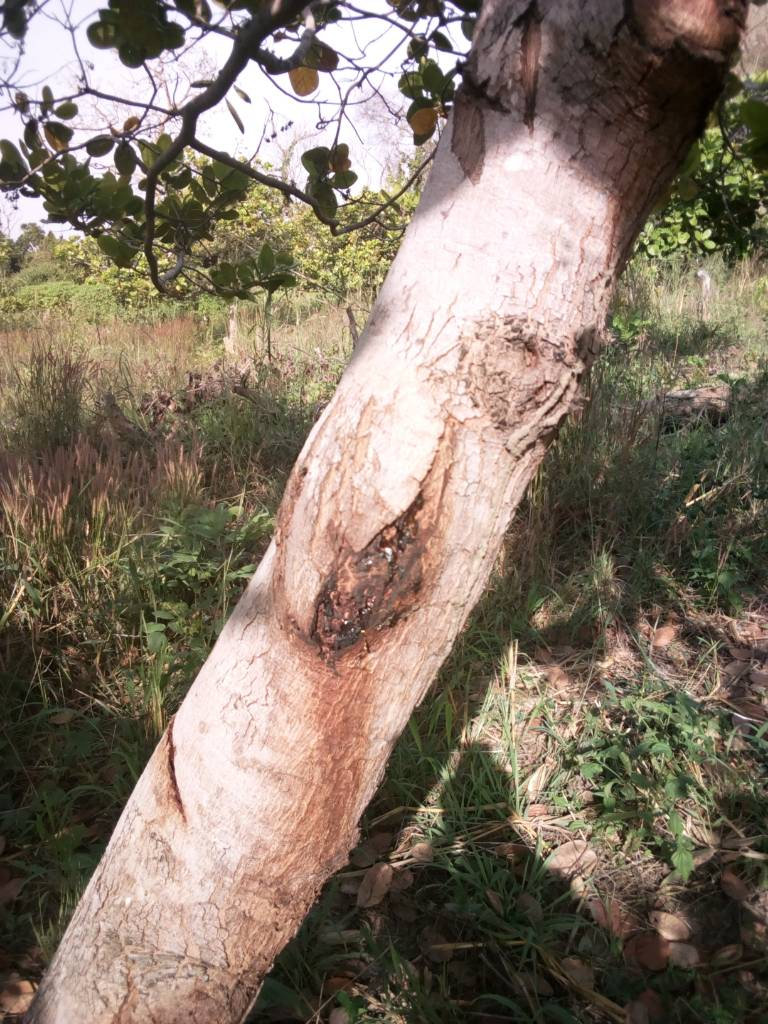ploceadorus ferrugineus: (236, 468, 448, 708)
